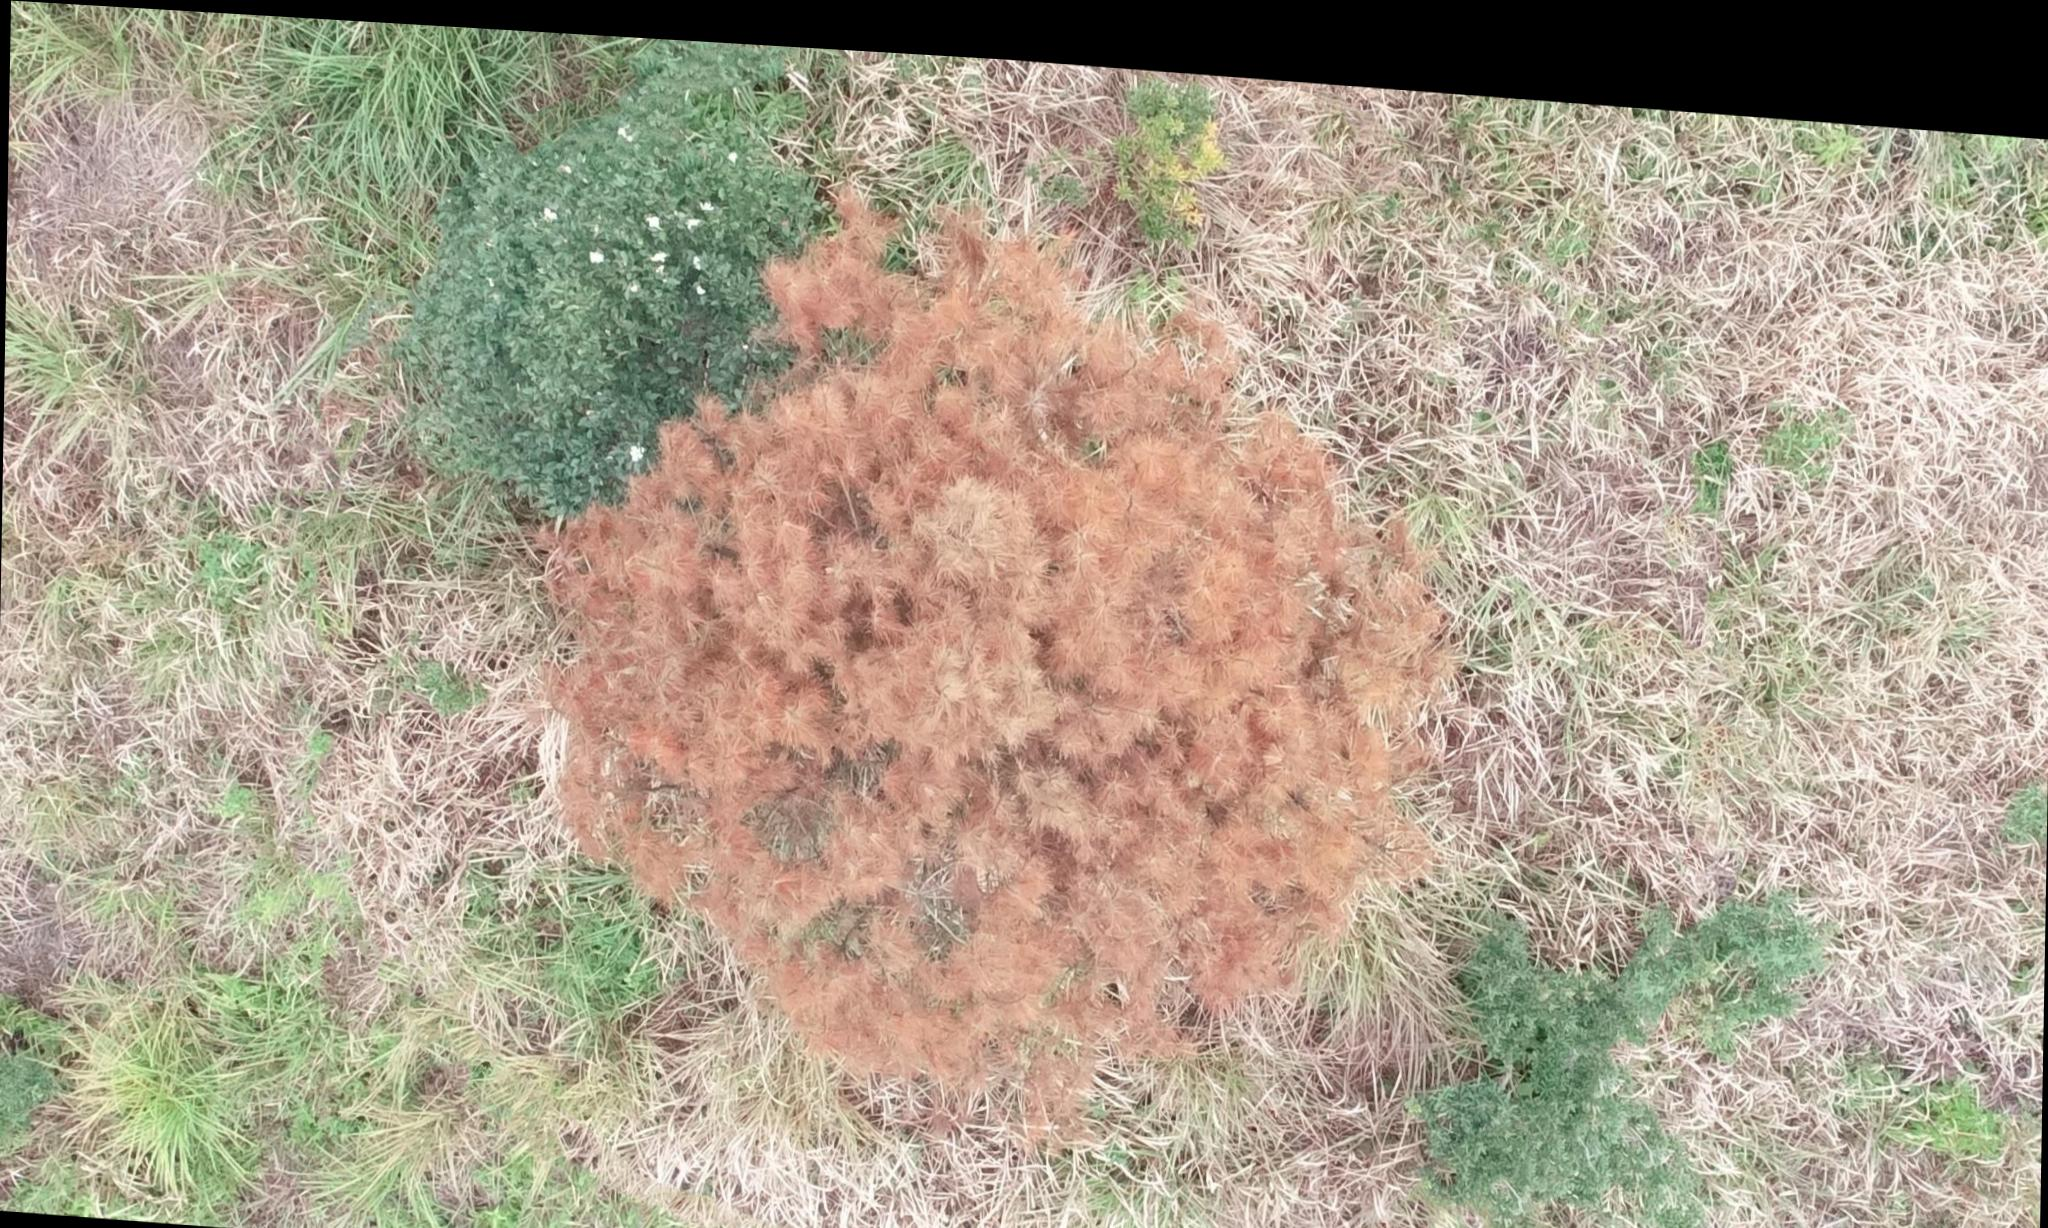heavy: (525, 152, 1465, 1158)
